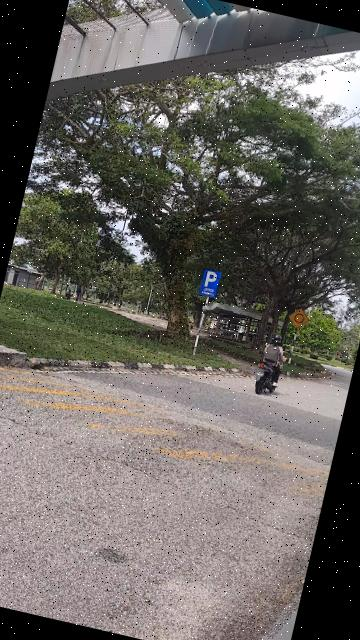License_Plate: (255, 370, 265, 378)
motorcycle: (250, 331, 293, 401)
